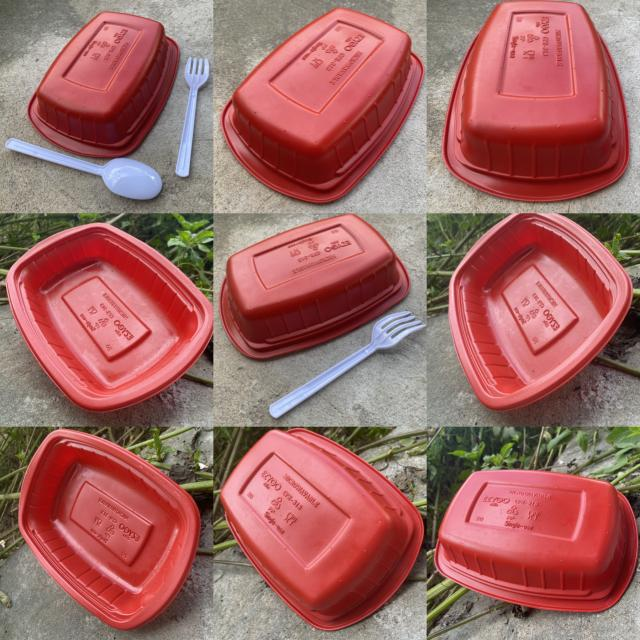Single-Use-Plastic: (220, 429, 424, 630), (221, 8, 424, 202), (6, 222, 212, 411), (442, 1, 629, 201), (19, 429, 200, 630), (449, 214, 632, 410), (435, 470, 638, 612), (220, 214, 410, 358), (28, 11, 179, 157), (269, 311, 426, 418), (5, 139, 162, 199), (175, 58, 209, 176)
